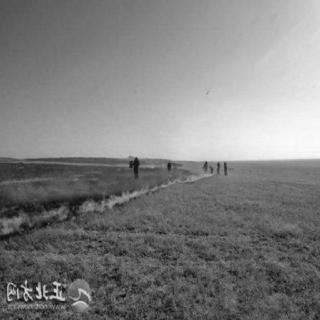Fire: (129, 170, 217, 203)
